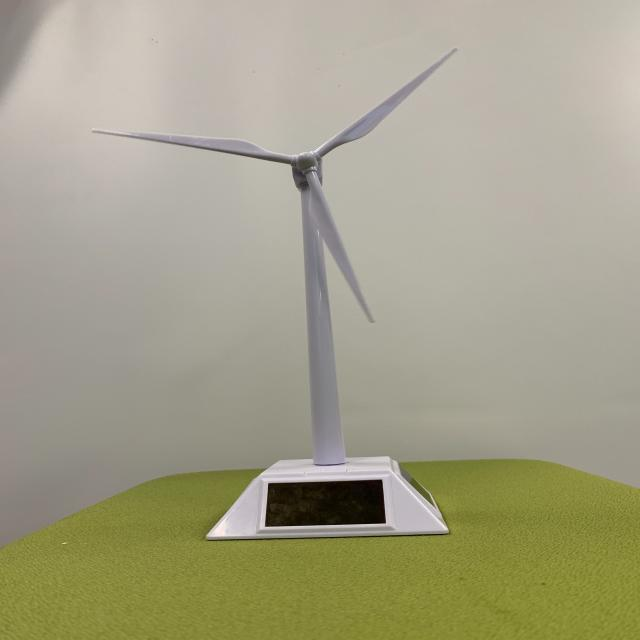solid-blade: (314, 49, 456, 158), (305, 170, 374, 322), (92, 129, 296, 164)
